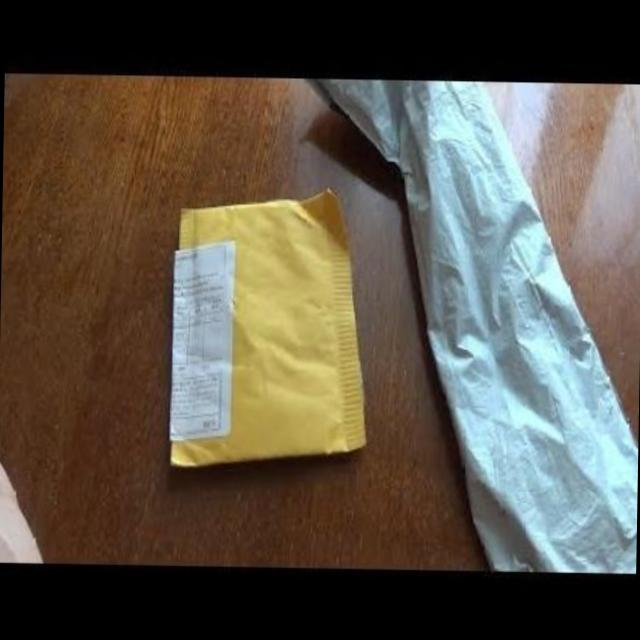mailer: (172, 192, 363, 465)
